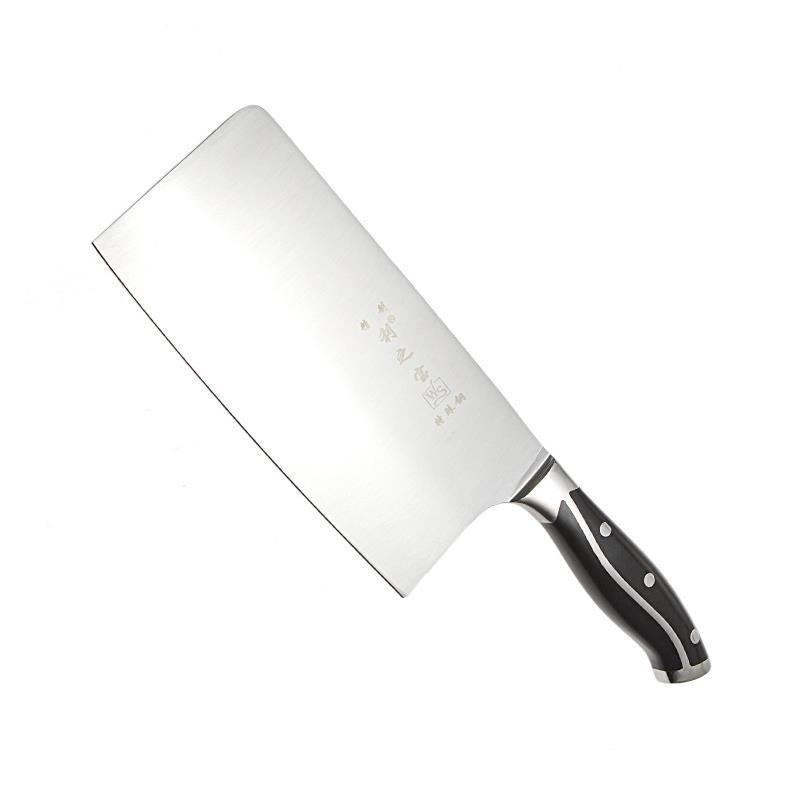knief: (67, 102, 737, 698)
